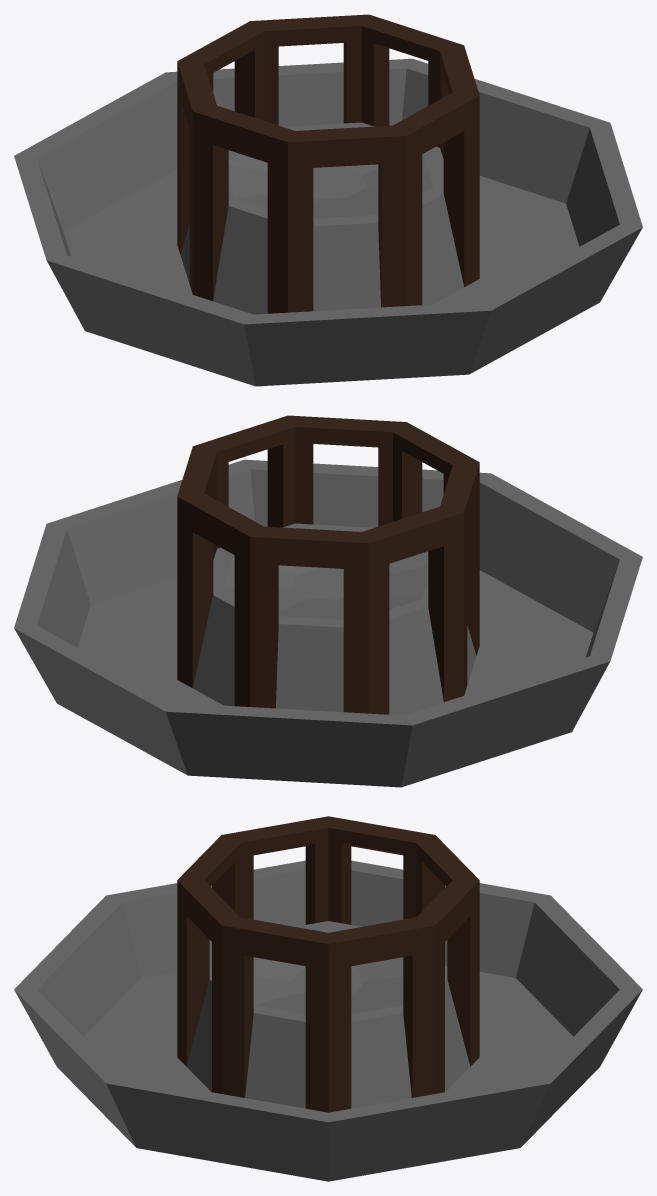
The model's file is Tribal_Plains_Windmill_Grain_Base_Stone_Timber_01.fbx.
3 renders of one model, top to bottom at view 1: azimuth 30°, elevation 25°; view 2: azimuth 150°, elevation 25°; view 3: azimuth 270°, elevation 25°, orthographic. The views are drawn at different scales.
Visible parts, largest first — view 1: Tribal_Plains_Windmill_Grain_Base_Stone_Timber_01; view 2: Tribal_Plains_Windmill_Grain_Base_Stone_Timber_01; view 3: Tribal_Plains_Windmill_Grain_Base_Stone_Timber_01.
Boxes of the visible parts, box(x1,y1,x2,y2) form: Tribal_Plains_Windmill_Grain_Base_Stone_Timber_01: box(14, 14, 642, 386); Tribal_Plains_Windmill_Grain_Base_Stone_Timber_01: box(14, 415, 642, 787); Tribal_Plains_Windmill_Grain_Base_Stone_Timber_01: box(14, 816, 642, 1181).
Bounding box in the file's own units: 5.18 × 1.7 × 5.18.
